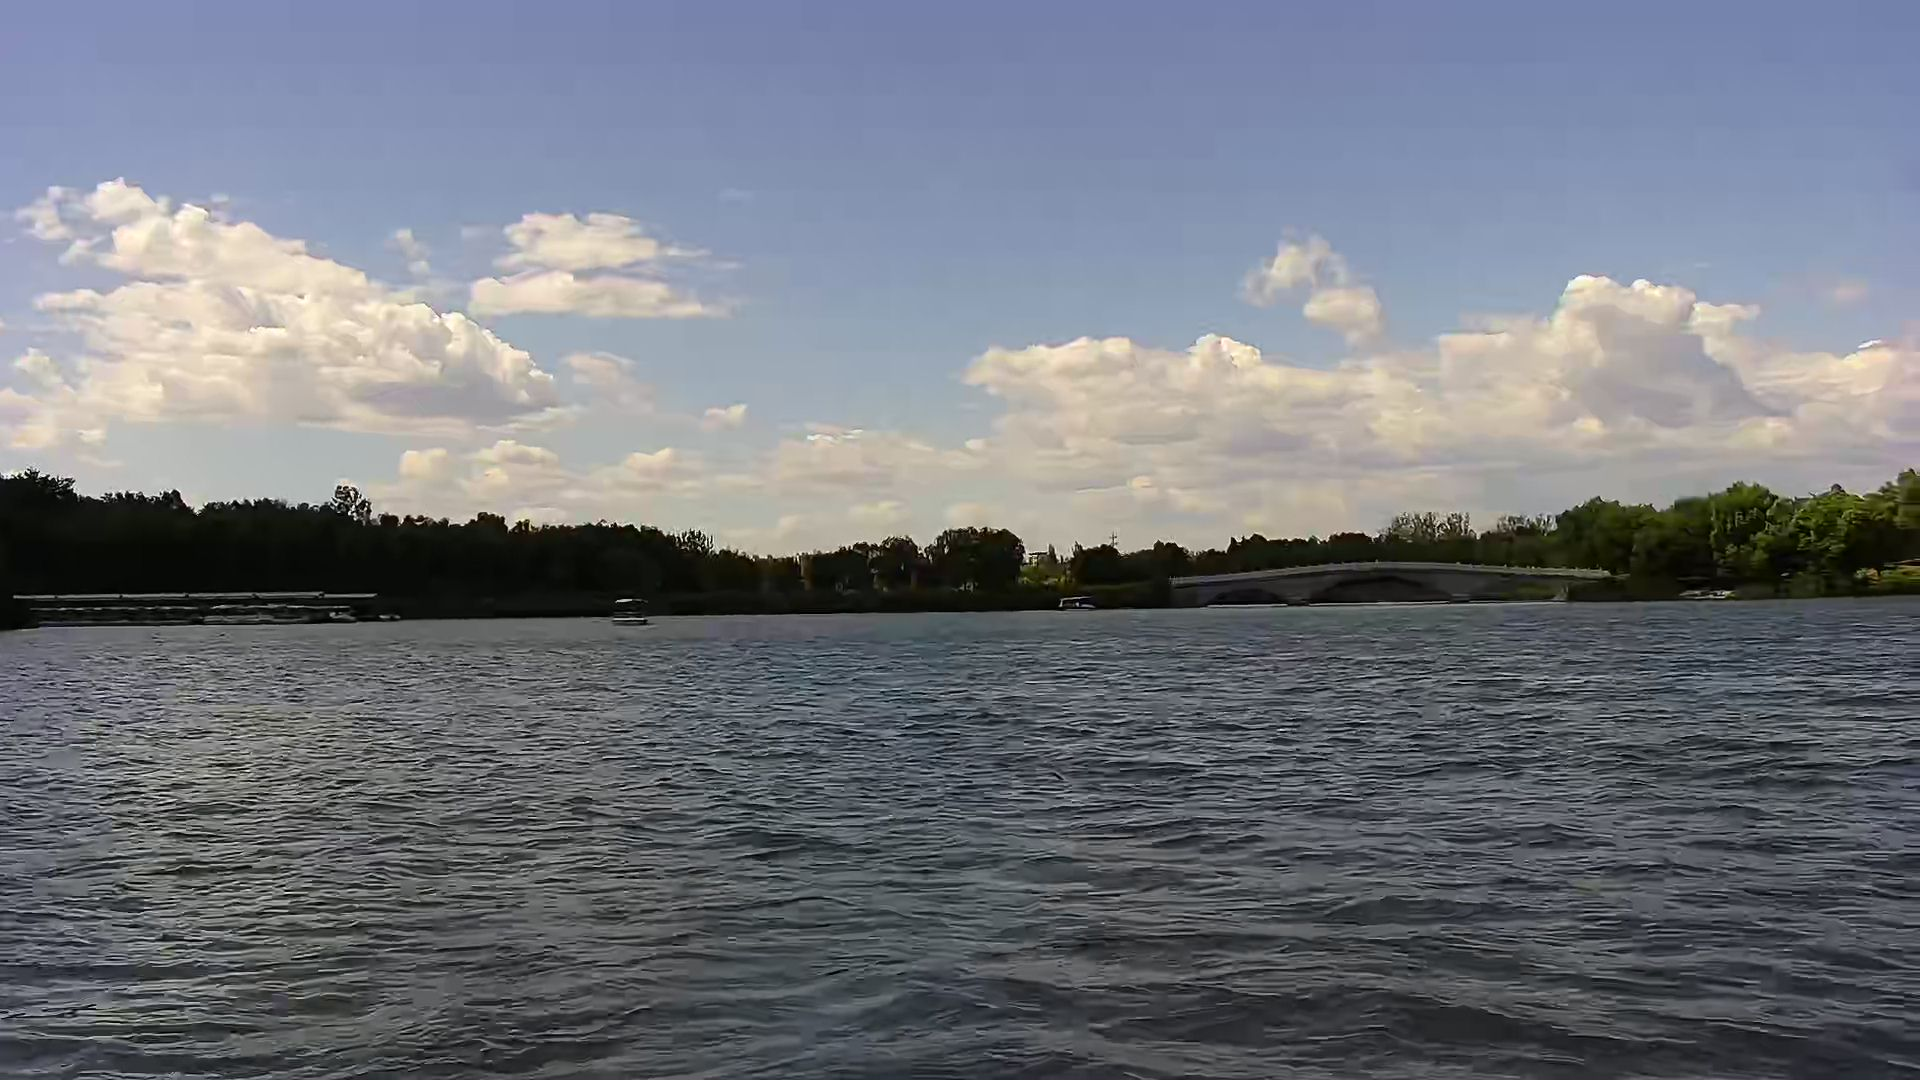boat: (612, 591, 655, 628), (1058, 589, 1098, 611)
bridge: (1167, 556, 1625, 604)
harbor: (12, 587, 401, 626)
